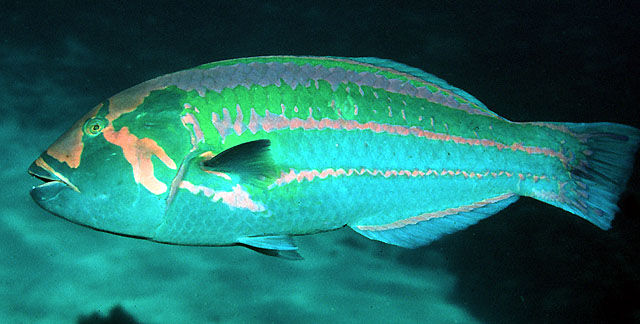fish: (27, 55, 637, 263)
